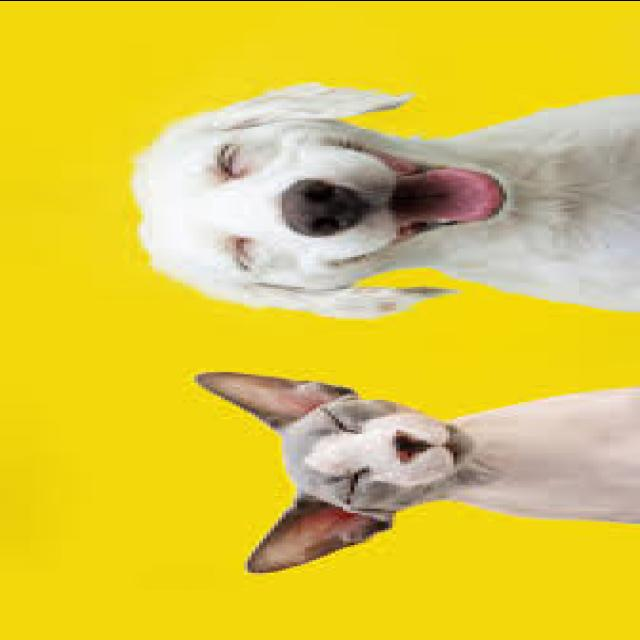dog: (125, 83, 640, 322), (188, 360, 640, 580)
